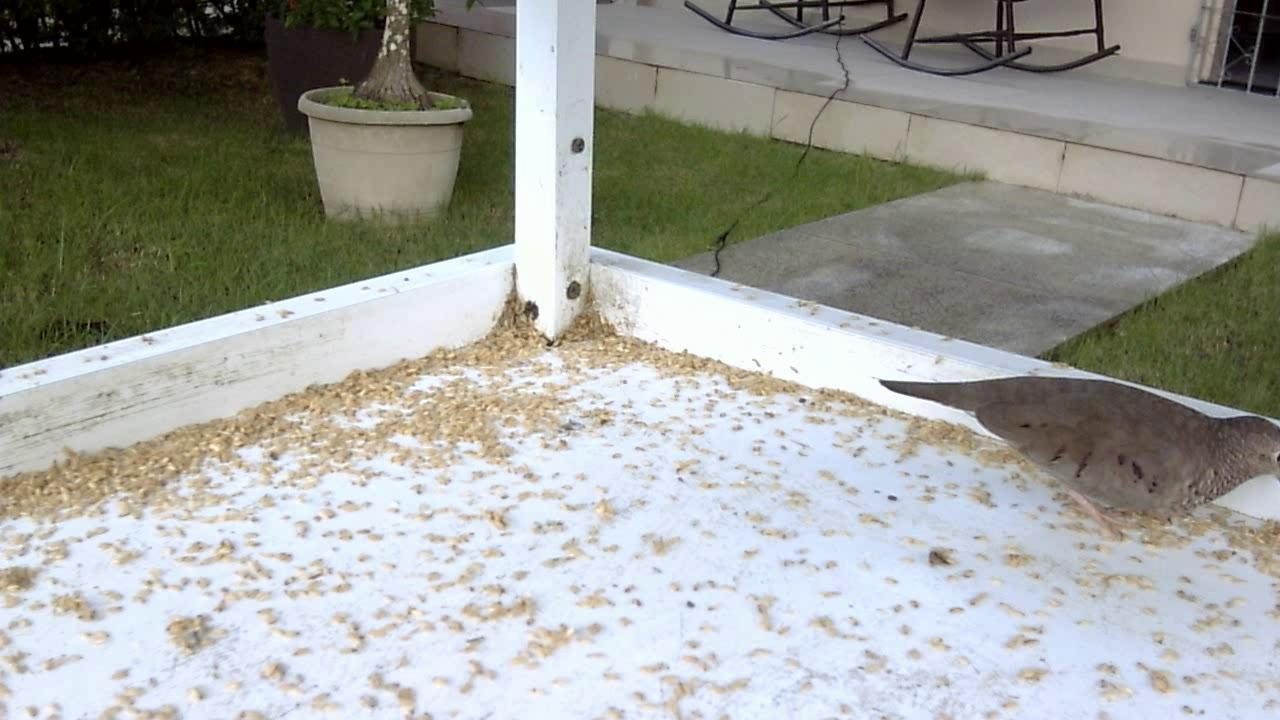rolinha: (857, 334, 1278, 543)
